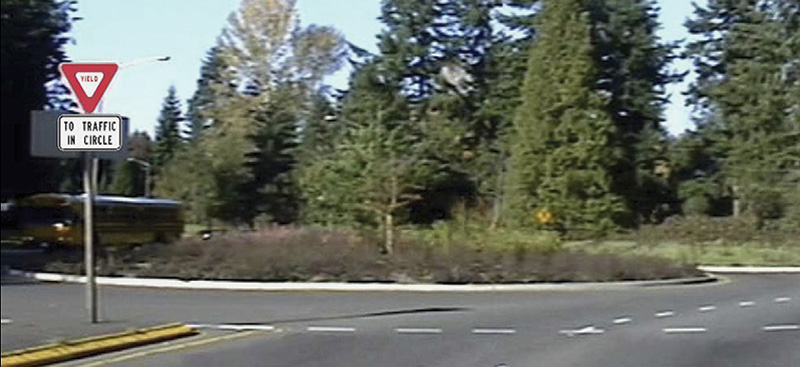yield_sign: (57, 60, 121, 117)
